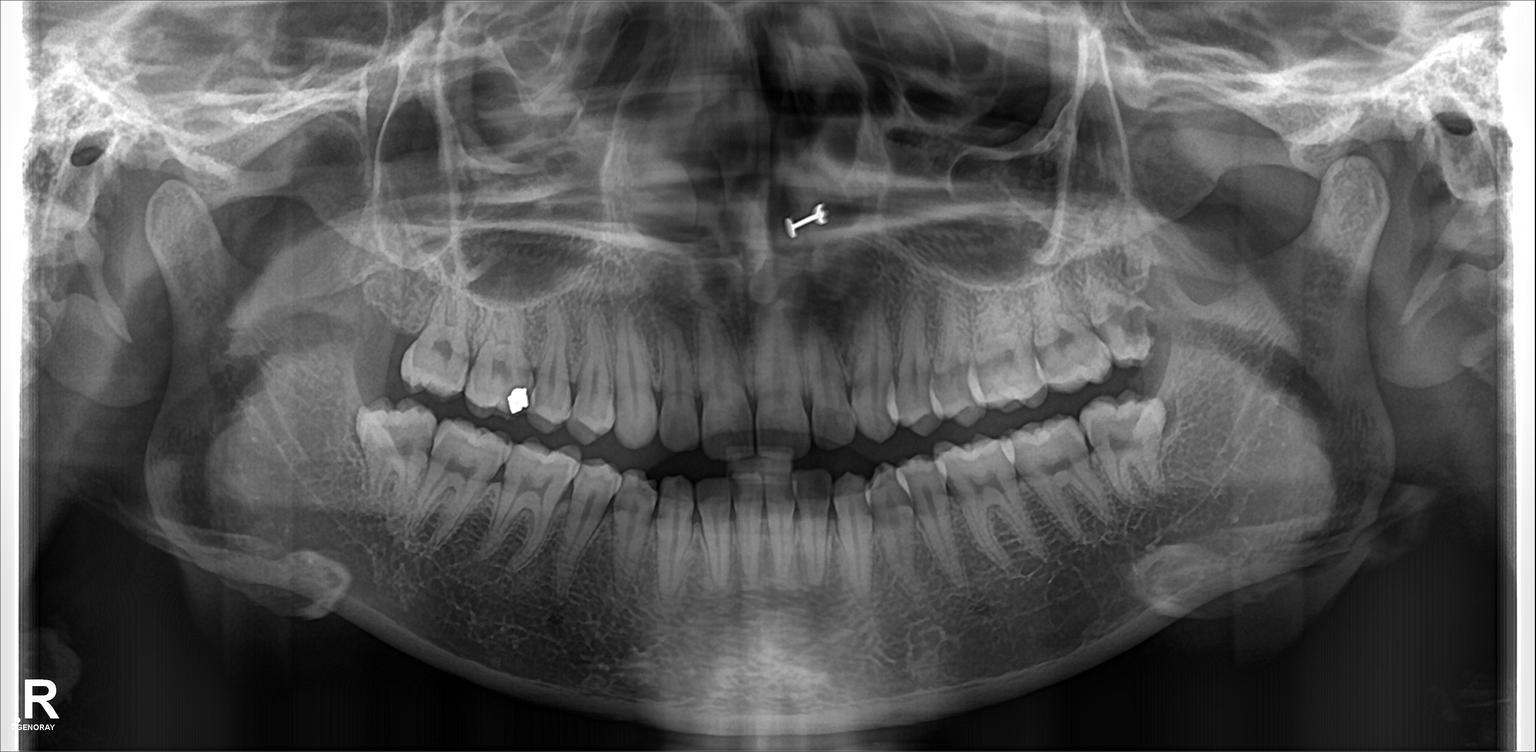Dental Caries: (1110, 307, 1155, 347)
Impacted Third Molar: (352, 408, 434, 530)
Missing Tooth: (361, 281, 410, 384)
